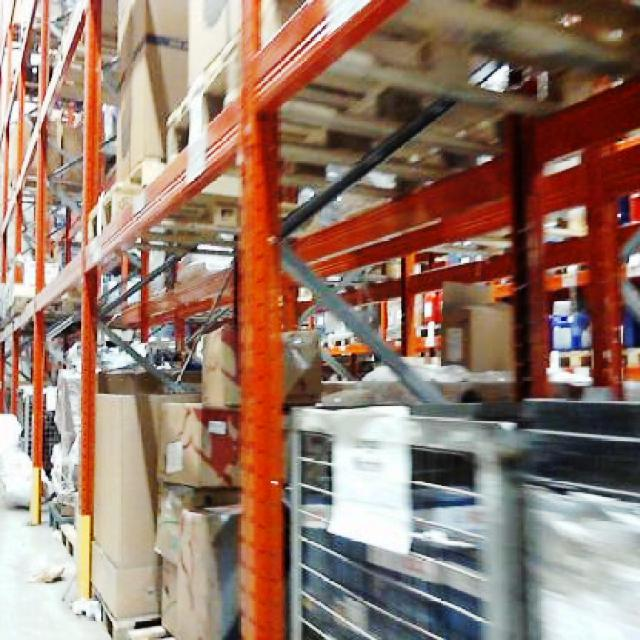ground: (0, 403, 116, 640)
